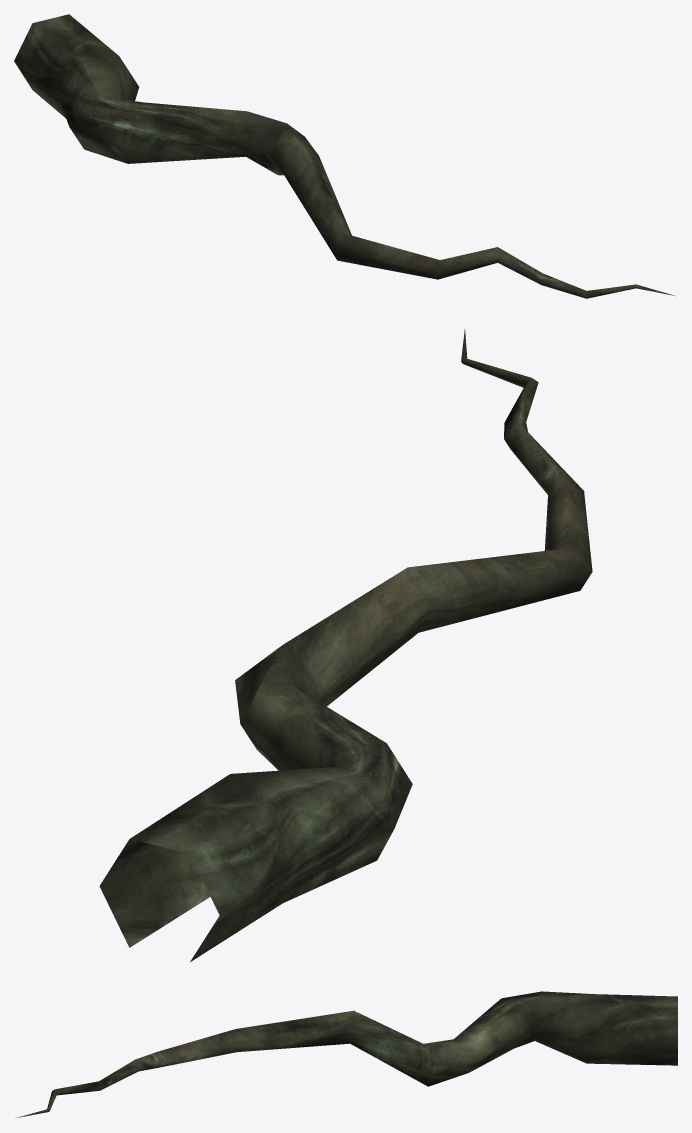
Rendered from Roots_el4.fbx.
3 views of the same model, one above another, from view 1: azimuth 30°, elevation 25°; view 2: azimuth 150°, elevation 25°; view 3: azimuth 270°, elevation 25° (orthographic). The views are drawn at different scales.
Parts seen in each view (by area): view 1: polySurface3109; view 2: polySurface3109; view 3: polySurface3109.
Part boxes in pixels (x1=…): polySurface3109: x1=14, y1=14, x2=676, y2=298; polySurface3109: x1=99, y1=329, x2=592, y2=961; polySurface3109: x1=15, y1=991, x2=677, y2=1118.
Bounding box in the file's own units: 2.28 × 0.6298 × 5.7.
